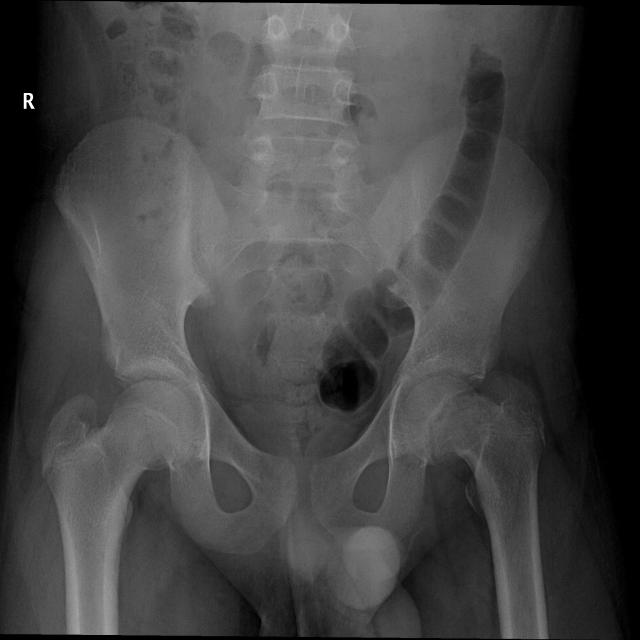normal-left: (401, 373, 549, 639)
normal-right: (42, 379, 194, 635)
